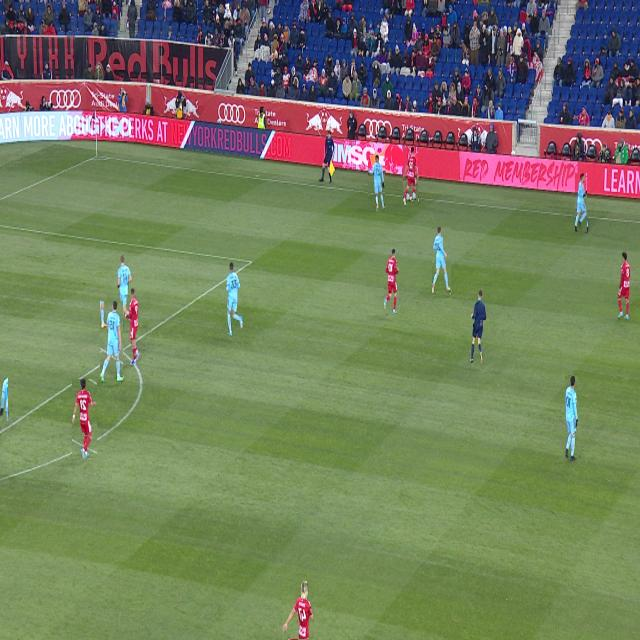football: (412, 193, 416, 200)
player: (72, 379, 97, 458), (283, 582, 314, 639), (101, 302, 123, 382), (122, 288, 140, 366), (226, 262, 243, 336), (432, 228, 451, 293), (565, 376, 578, 461), (117, 256, 132, 329), (384, 250, 399, 314), (369, 155, 385, 211), (617, 253, 630, 319), (404, 147, 418, 205), (576, 174, 587, 232), (0, 377, 8, 421)
referee: (470, 290, 486, 362)
